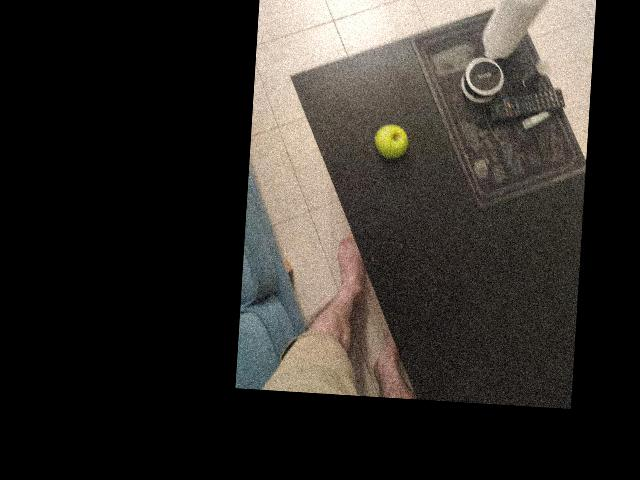apple: (371, 122, 419, 177)
